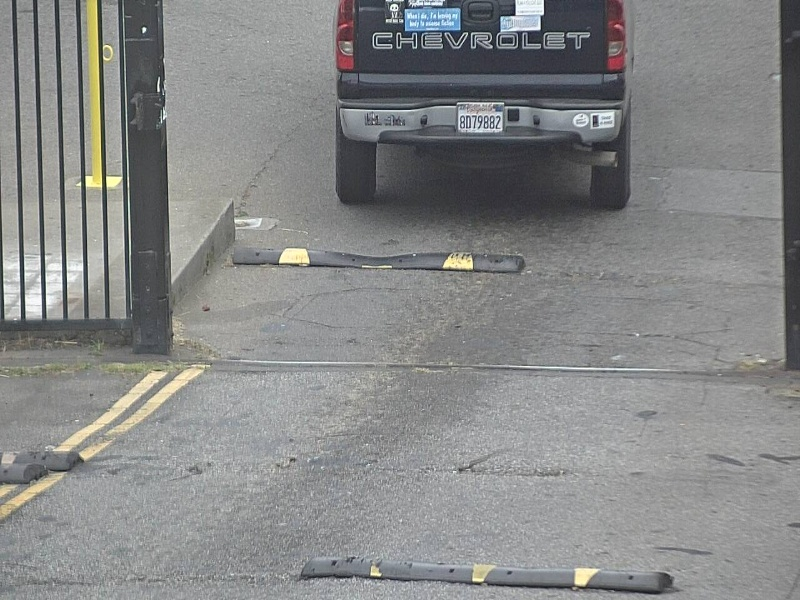licence plate: (456, 101, 505, 136)
